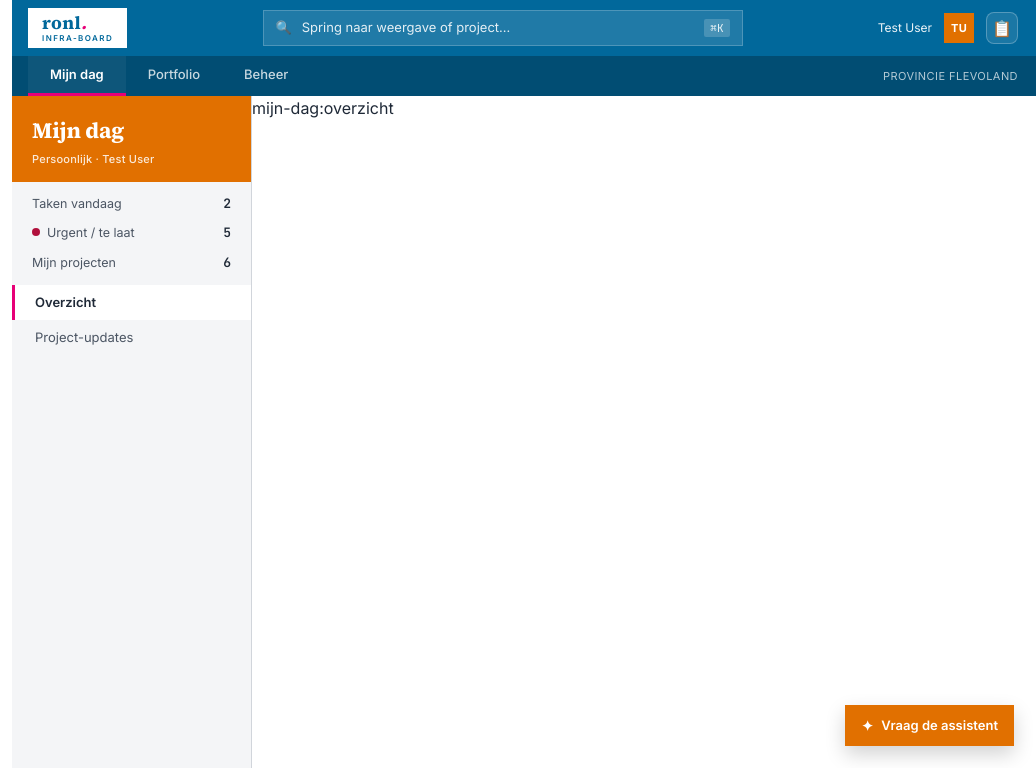
Test case: InfraBoardDashboard › Portfolio rail has no "Alle projecten" nav item, and shows stage/health stats instead
Click the button "Portfolio": [174, 76] box [126, 56, 222, 96]
(page scrolled)
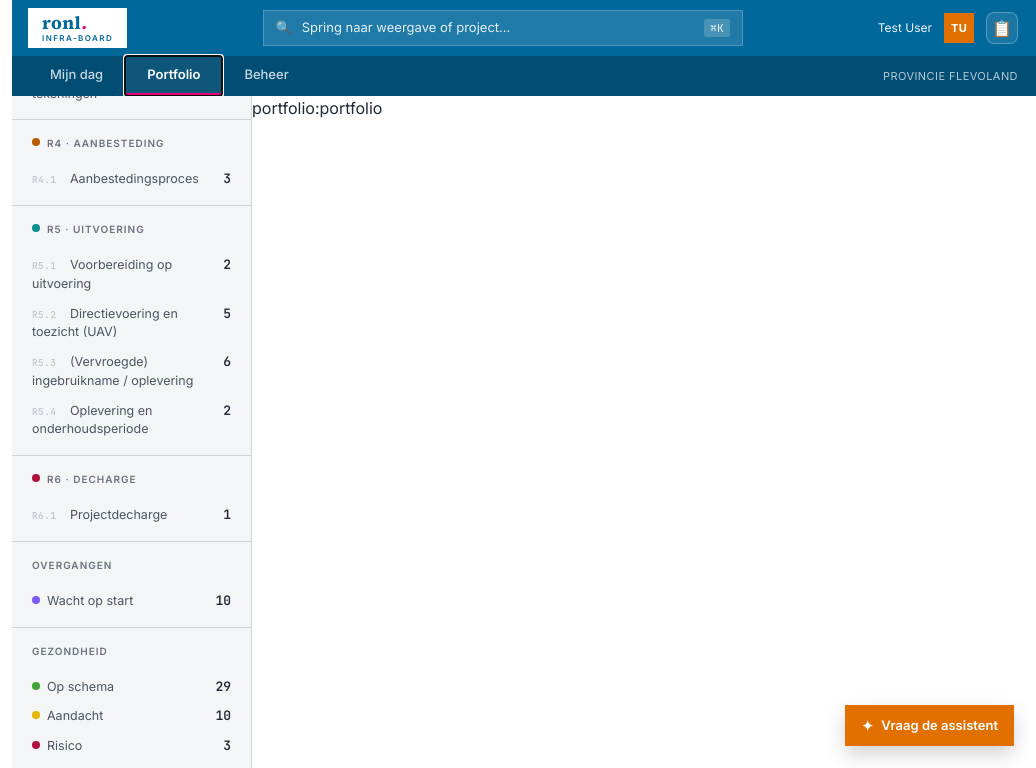
Result: the text "Op schema" is shown at [32, 678, 114, 696]
Result: the text "Aandacht" is shown at [32, 707, 103, 726]
Result: the text "Risico" is shown at [32, 737, 82, 756]
